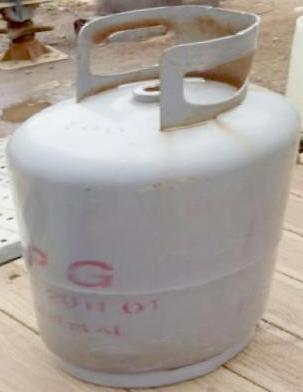cylinder: (1, 1, 303, 392)
